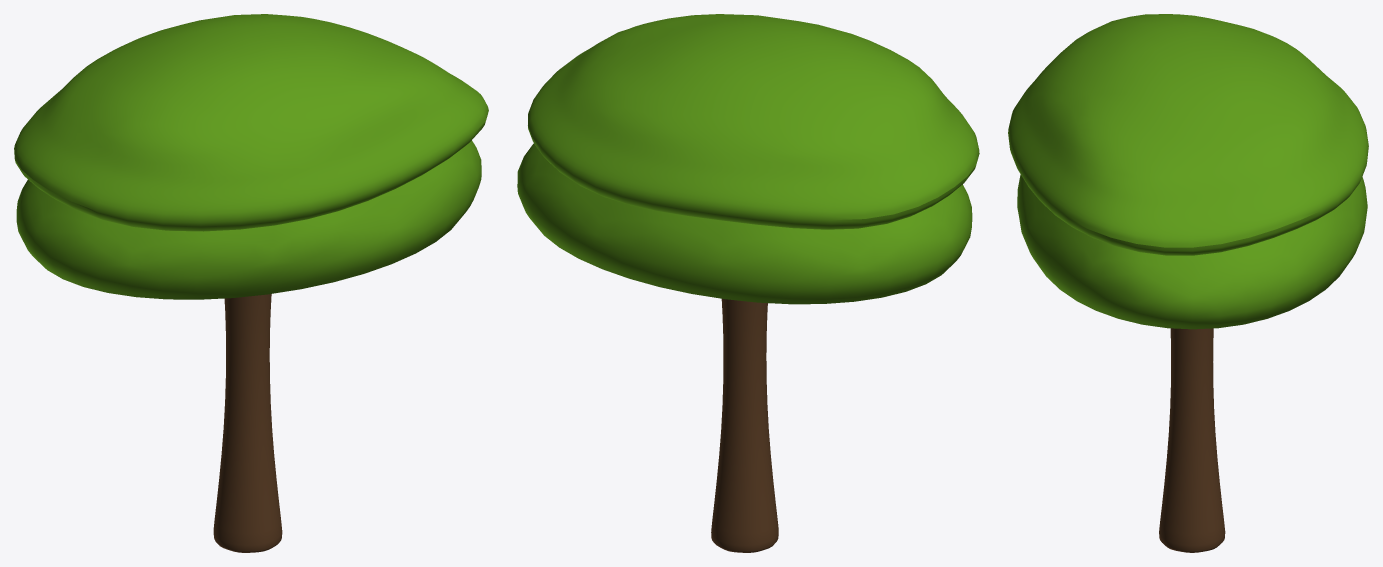
File: arv2.fbx
3 renders of one model, left to right at view 1: azimuth 30°, elevation 25°; view 2: azimuth 150°, elevation 25°; view 3: azimuth 270°, elevation 25°, orthographic. The views are drawn at different scales.
Visible parts, largest first — view 1: Cylinder.014; view 2: Cylinder.014; view 3: Cylinder.014.
Boxes of the visible parts, x1,y1,x2,y2 form: Cylinder.014: (14, 14, 488, 552); Cylinder.014: (517, 14, 979, 552); Cylinder.014: (1008, 14, 1368, 552).
Size of the model in its own units: 2707 by 3059 by 2062.
